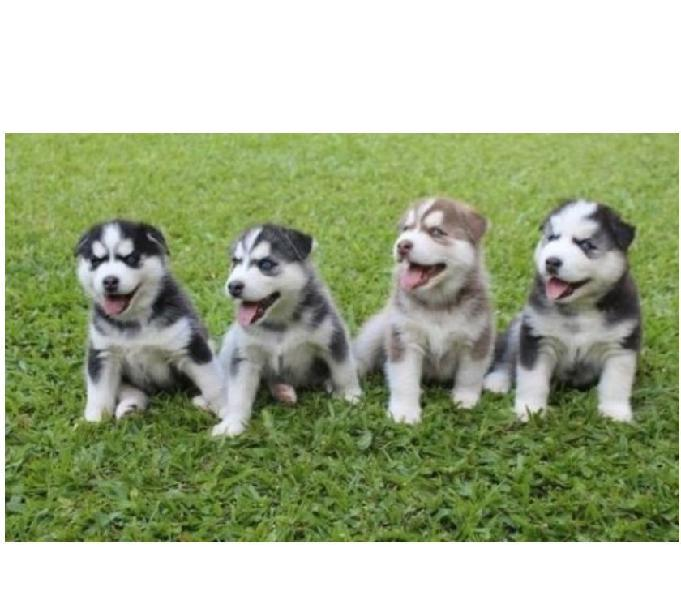husky: (512, 193, 652, 425), (363, 193, 504, 415), (212, 215, 358, 428), (64, 211, 206, 417)
